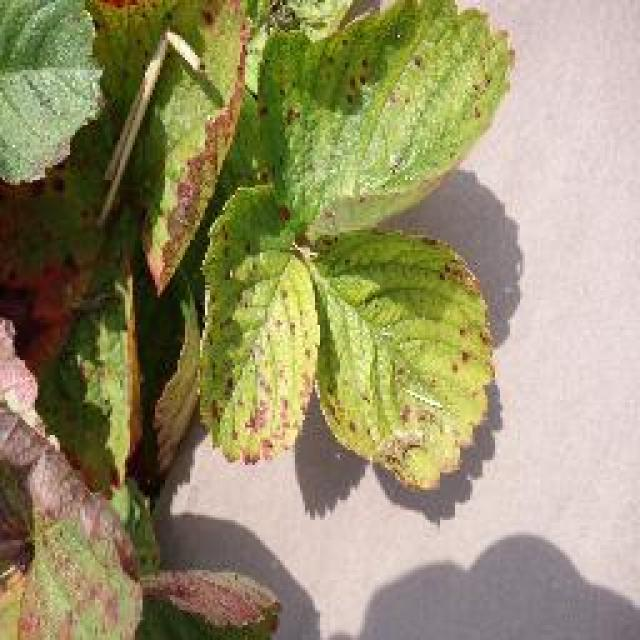Strawberry leaf scorch: (5, 182, 467, 420)
